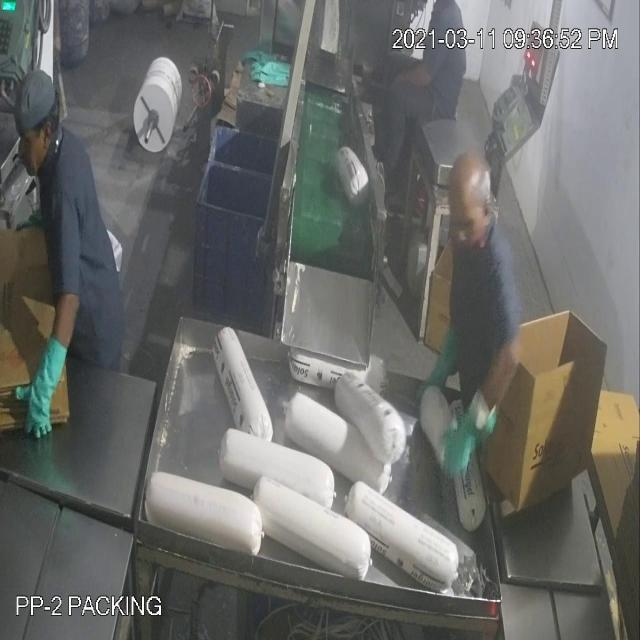Gloves: (36, 104, 472, 436)
